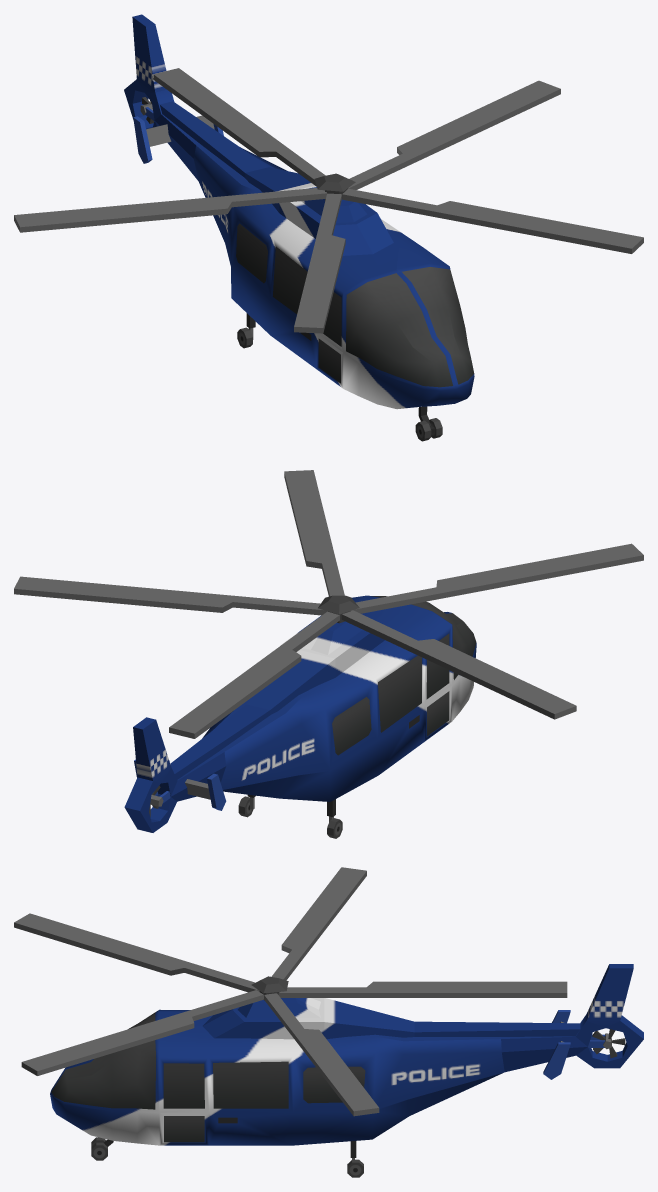
The model's file is HelicopterB.fbx.
The picture shows the model from 3 angles, top to bottom: view 1: azimuth 30°, elevation 25°; view 2: azimuth 150°, elevation 25°; view 3: azimuth 270°, elevation 25°; orthographic projection. The views are drawn at different scales.
Visible parts, largest first — view 1: HelicopterB, HelicopterBPropeller; view 2: HelicopterB, HelicopterBPropeller; view 3: HelicopterB, HelicopterBPropeller.
Part boxes in pixels (left/top/right/bottom): HelicopterB: left=124, top=14, right=474, bottom=441; HelicopterBPropeller: left=14, top=68, right=643, bottom=333; HelicopterB: left=124, top=595, right=476, bottom=838; HelicopterBPropeller: left=14, top=470, right=643, bottom=738; HelicopterB: left=50, top=964, right=643, bottom=1177; HelicopterBPropeller: left=14, top=867, right=567, bottom=1116.
Bounding box in the file's own units: 672 × 245 × 733.
